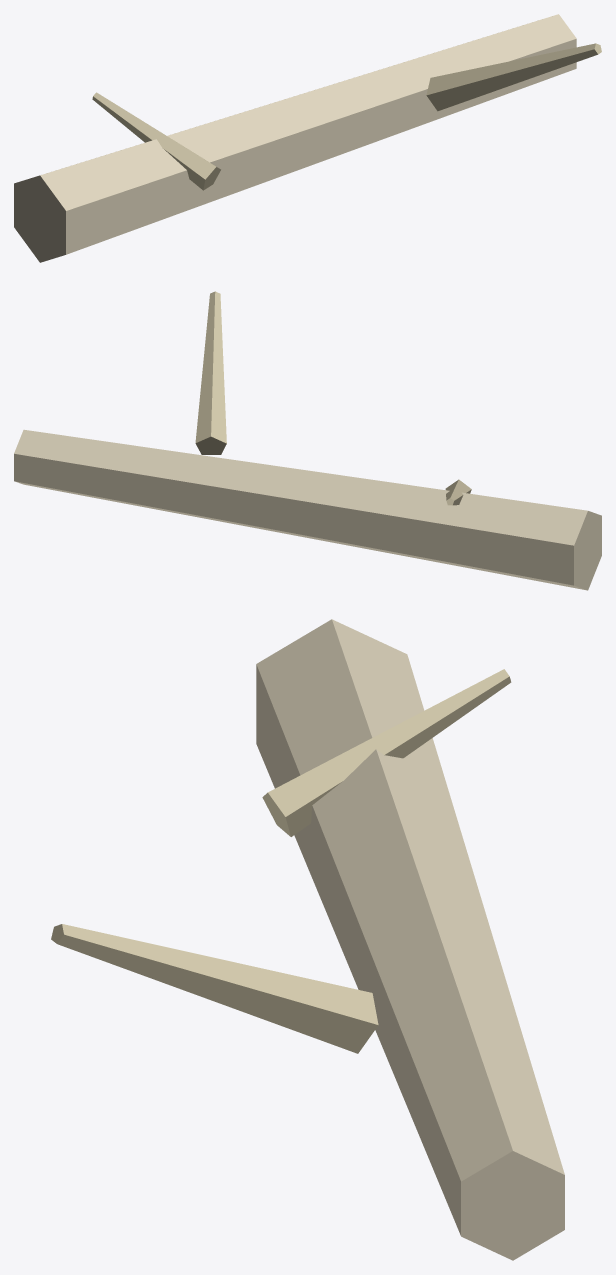
File: driftwood.glb
3 views of the same model, one above another, from view 1: azimuth 30°, elevation 25°; view 2: azimuth 150°, elevation 25°; view 3: azimuth 270°, elevation 25° (orthographic). The views are drawn at different scales.
Visible parts, largest first — view 1: driftwood; view 2: driftwood; view 3: driftwood.
Part boxes in pixels (<box>): driftwood: <box>14,14,601,262</box>; driftwood: <box>14,291,601,590</box>; driftwood: <box>51,619,564,1260</box>.
Size of the model in its own units: 4.42 by 1.14 by 1.87.
